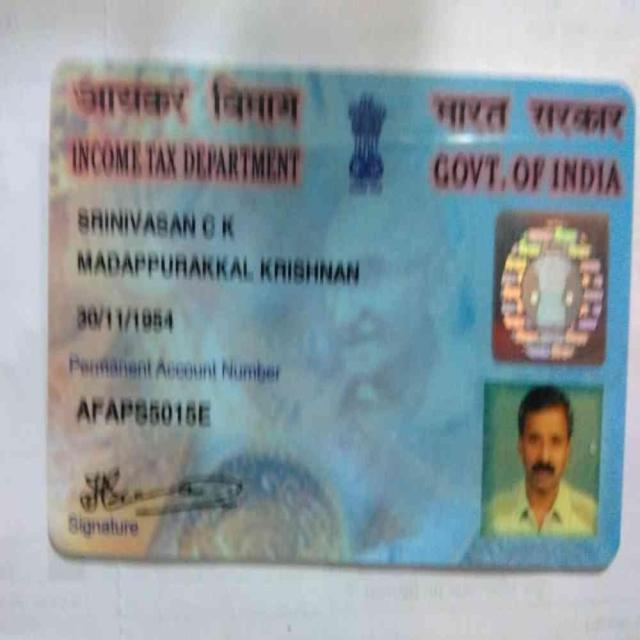pan_card: (48, 61, 631, 562)
